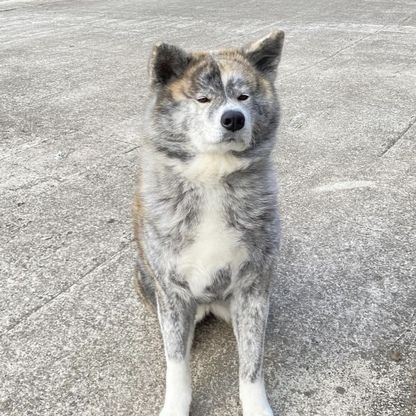akita: (125, 24, 293, 416)
